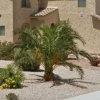Palm tree: (21, 15, 84, 88)
